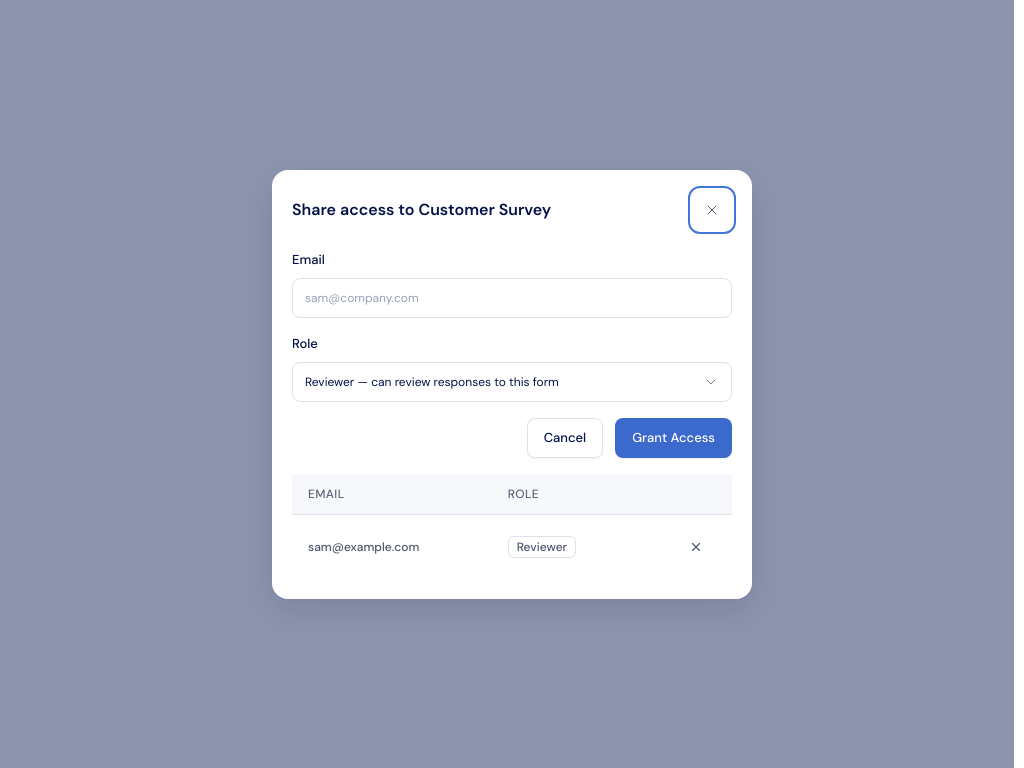
FormAccessPanel › "Keep access" cancels the revoke without sending anything
The image size is (1024, 768).
Click the button named "Revoke access for sam@example.com" at (696, 546), box [676,530,716,562]
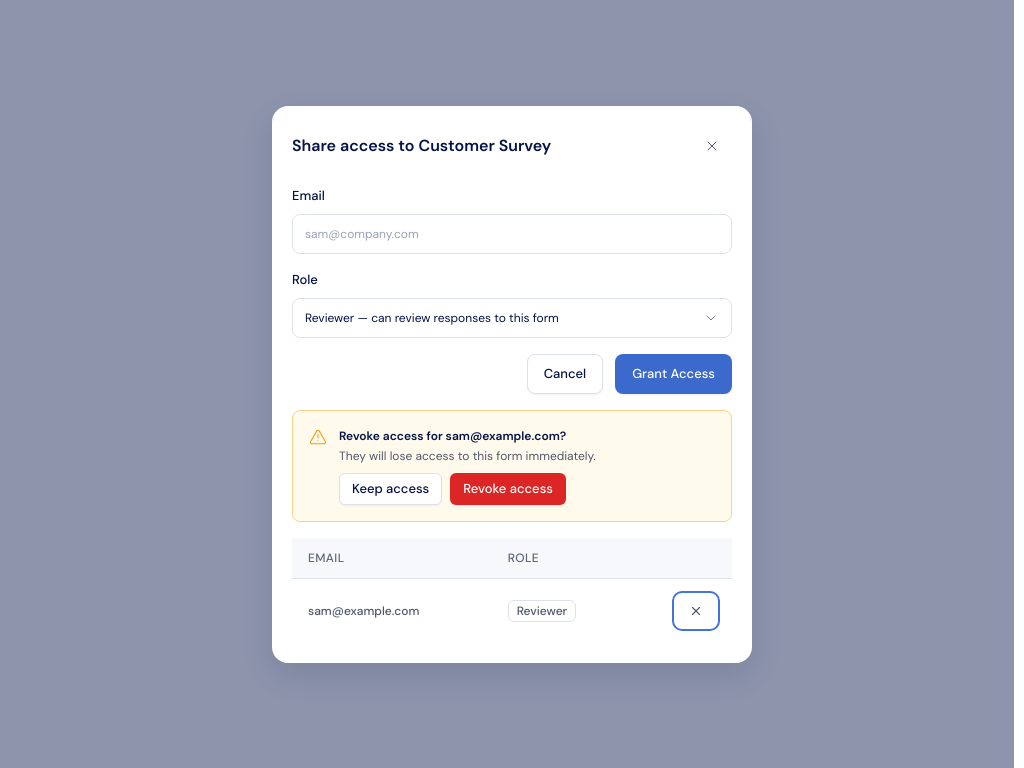
Click the button "Keep access" at (391, 488), box [339,472,442,504]
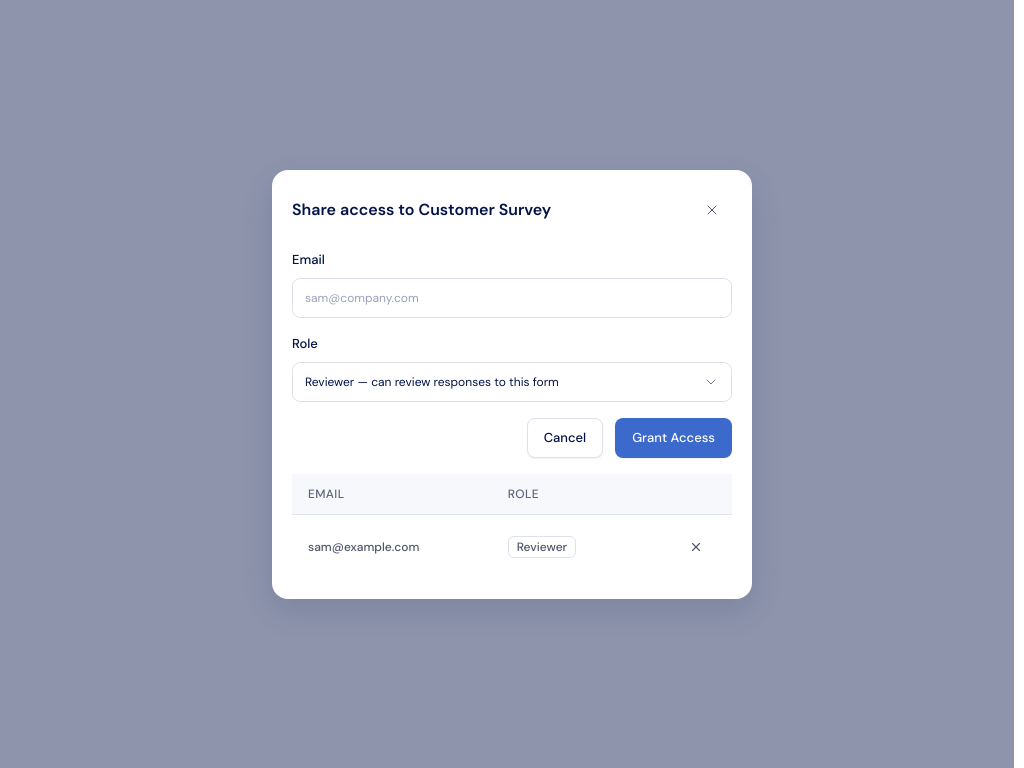
Expected: the text "Revoke access for sam@example.com?" is gone
